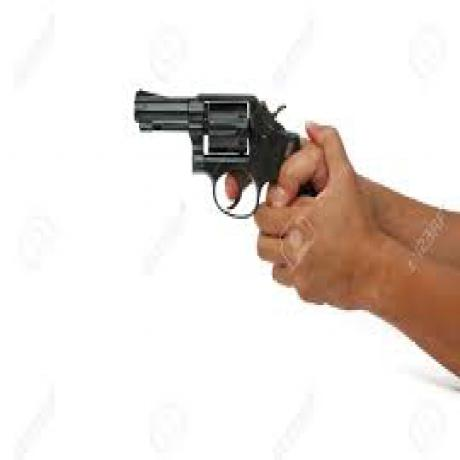Guns: (128, 74, 308, 236)
